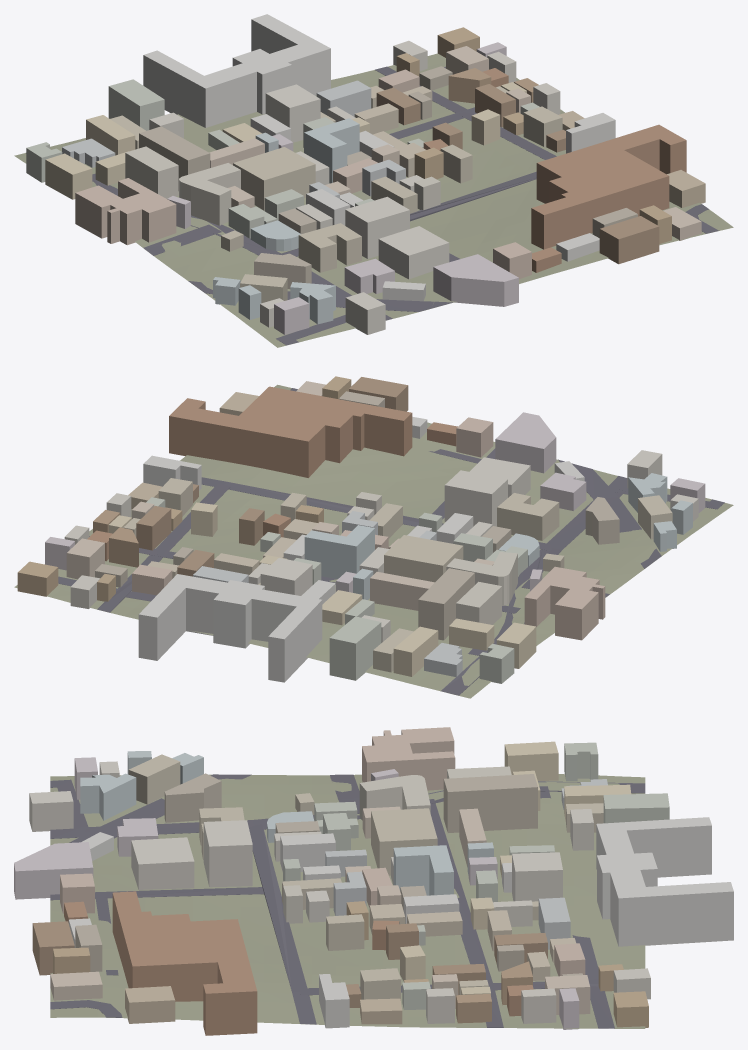
The model's file is chunk_4_7.glb.
3 views of the same model, one above another, from view 1: azimuth 30°, elevation 25°; view 2: azimuth 150°, elevation 25°; view 3: azimuth 270°, elevation 25° (orthographic). The views are drawn at different scales.
Visible parts, largest first — view 1: geometry_108, geometry_107, geometry_26, geometry_106, geometry_2, geometry_53, geometry_104, geometry_51, geometry_105, geometry_11, geometry_103, geometry_59 (+62 smaller); view 2: geometry_108, geometry_107, geometry_26, geometry_106, geometry_105, geometry_2, geometry_59, geometry_53, geometry_27, geometry_66, geometry_11, geometry_63 (+47 smaller); view 3: geometry_108, geometry_26, geometry_107, geometry_66, geometry_106, geometry_113, geometry_105, geometry_2, geometry_104, geometry_53, geometry_59, geometry_67 (+75 smaller).
Part boxes in pixels (<box>): geometry_108: <box>14,53,733,347</box>; geometry_107: <box>531,124,686,249</box>; geometry_26: <box>143,14,330,127</box>; geometry_106: <box>75,178,176,245</box>; geometry_2: <box>433,254,518,306</box>; geometry_53: <box>233,147,315,210</box>; geometry_104: <box>378,226,449,279</box>; geometry_51: <box>179,163,240,225</box>; geometry_105: <box>345,196,409,258</box>; geometry_11: <box>298,223,361,272</box>; geometry_103: <box>599,216,659,264</box>; geometry_59: <box>304,118,359,183</box>; geometry_108: <box>14,384,733,698</box>; geometry_107: <box>169,386,412,477</box>; geometry_26: <box>138,574,322,682</box>; geometry_106: <box>524,566,605,640</box>; geometry_105: <box>444,470,507,526</box>; geometry_2: <box>495,412,556,473</box>; geometry_59: <box>304,525,374,578</box>; geometry_53: <box>384,535,463,582</box>; geometry_27: <box>329,616,381,680</box>; geometry_66: <box>418,568,474,640</box>; geometry_11: <box>497,493,559,540</box>; geometry_63: <box>370,571,434,610</box>; geometry_108: <box>50,774,645,1028</box>; geometry_26: <box>596,817,733,946</box>; geometry_107: <box>112,891,257,1035</box>; geometry_66: <box>443,774,537,832</box>; geometry_106: <box>362,727,455,790</box>; geometry_113: <box>249,824,316,1024</box>; geometry_105: <box>203,820,252,887</box>; geometry_2: <box>14,842,93,899</box>; geometry_104: <box>131,837,194,889</box>; geometry_53: <box>371,808,437,875</box>; geometry_59: <box>393,845,453,895</box>; geometry_67: <box>512,852,562,901</box>.
Size of the model in its own units: 275 by 23.16 by 302.
